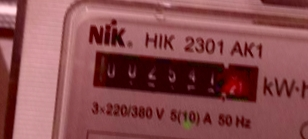0: (105, 55, 120, 77), (126, 55, 140, 77)
1: (207, 62, 220, 86)
2: (146, 56, 162, 79)
4: (187, 59, 200, 81)
5: (166, 58, 181, 82)
6: (228, 80, 240, 93)
screen: (80, 36, 274, 110)
